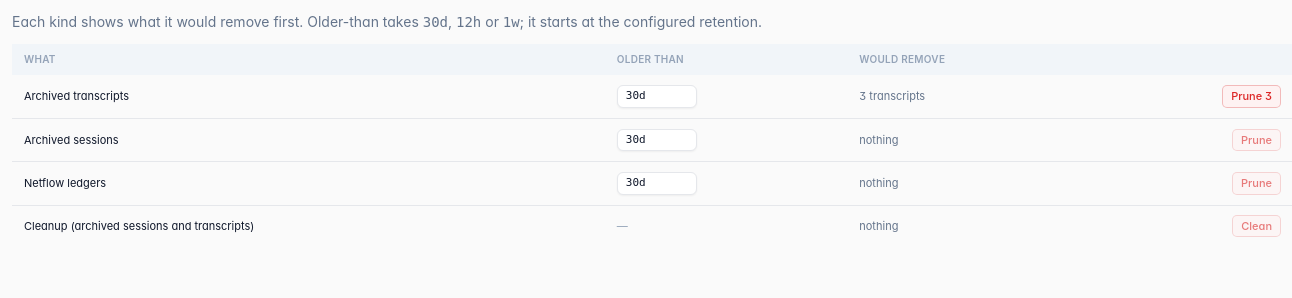
Test case: MaintenanceTab › shows each kind’s dry-run count, then prunes after the confirm
The image size is (1292, 298).
expect the text "3 transcripts" is shown: met, box x1=859 y1=89 x2=925 y2=103
Click the button "Prune 3" at (1252, 96), box x1=1223 y1=86 x2=1280 y2=106
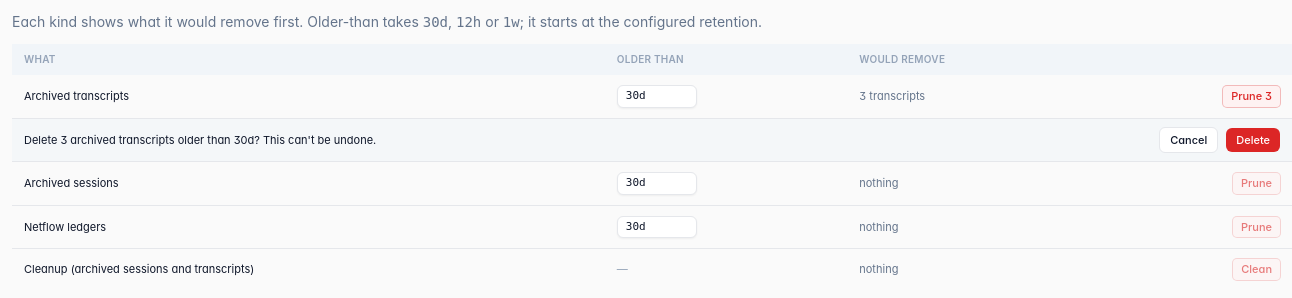
expect the text "Delete 3 archived transcripts older than 30d? This can't be undone." is shown: met, box x1=24 y1=132 x2=376 y2=148
Click the button "Delete" at (1253, 140), box x1=1226 y1=128 x2=1280 y2=152
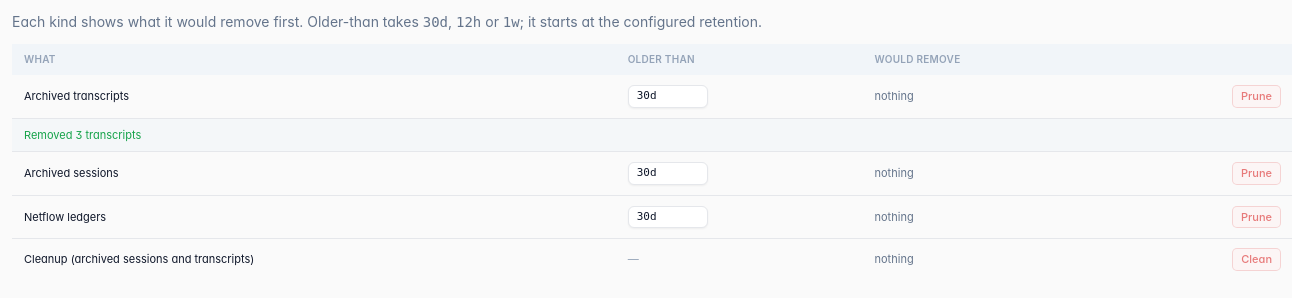
expect the text "Removed 3 transcripts" is shown: met, box x1=24 y1=128 x2=141 y2=142
expect the text "nothing" in the row of "Archived transcripts" is shown: met, box x1=874 y1=89 x2=914 y2=103
